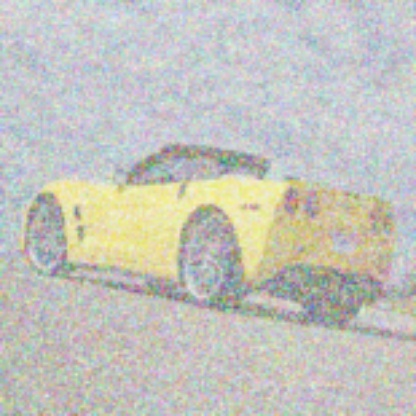Vehicle: (22, 144, 395, 325)
